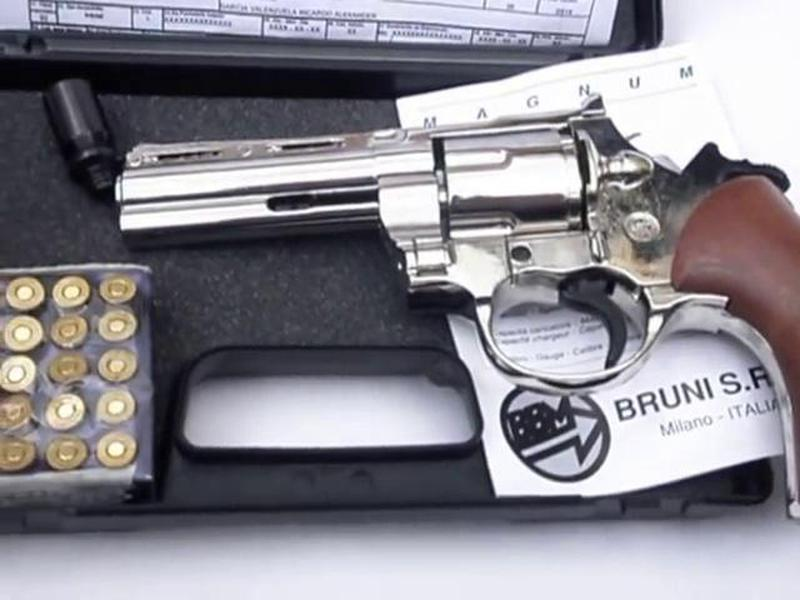Revolver: (104, 91, 800, 423)
